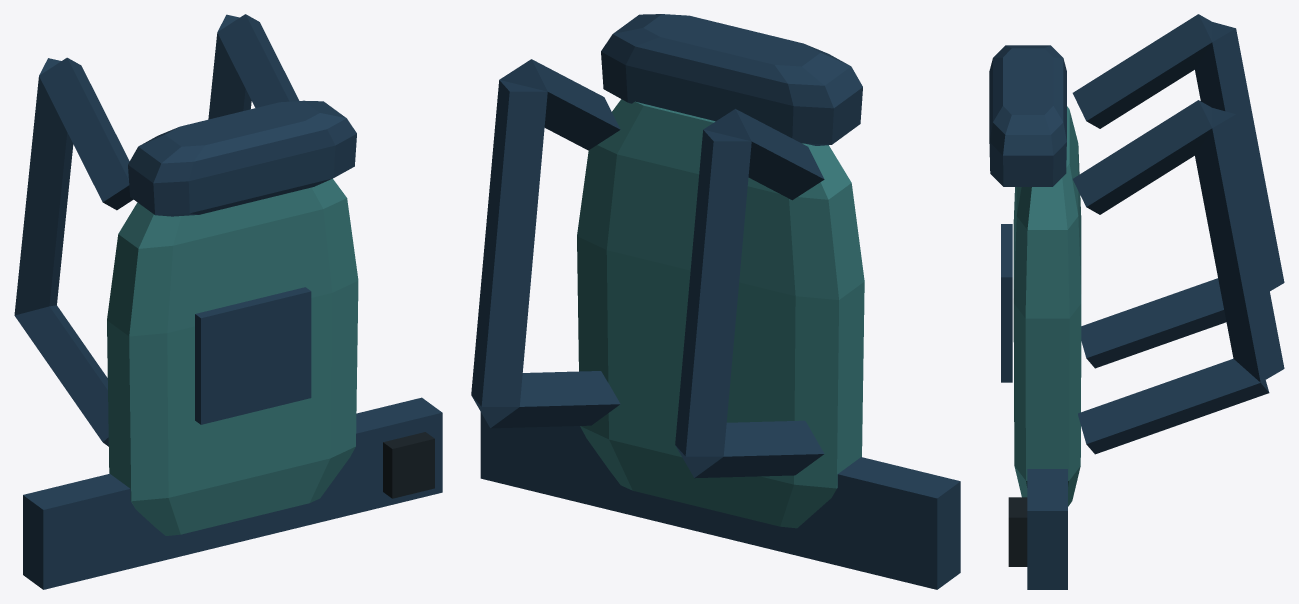
File: b17_soft_structured_baby_carrier.glb
The picture shows the model from 3 angles, left to right: view 1: azimuth 30°, elevation 25°; view 2: azimuth 150°, elevation 25°; view 3: azimuth 270°, elevation 25°; orthographic projection. The views are drawn at different scales.
Visible parts, largest first — view 1: b17_soft_structured_baby_carrier; view 2: b17_soft_structured_baby_carrier; view 3: b17_soft_structured_baby_carrier.
Boxes of the visible parts, x1,y1,x2,y2 form: b17_soft_structured_baby_carrier: (14,14,442,589); b17_soft_structured_baby_carrier: (471,14,960,589); b17_soft_structured_baby_carrier: (989,14,1284,589).
Size of the model in its own units: 0.47 by 0.4976 by 0.3046.
